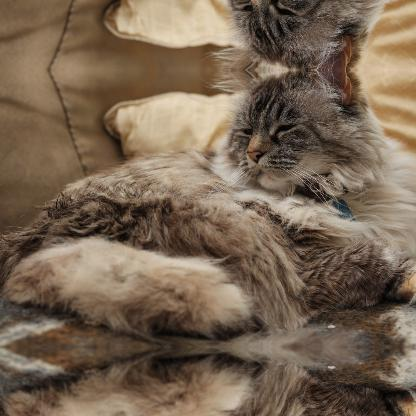Cat: (0, 69, 415, 338), (0, 0, 415, 70), (0, 355, 415, 415)
